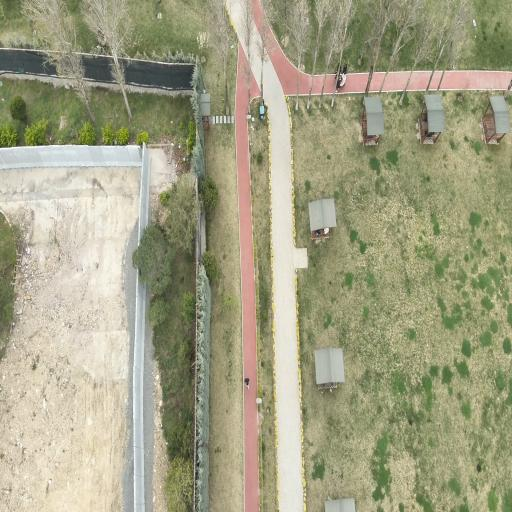person: (336, 64, 347, 91), (245, 378, 249, 389)
